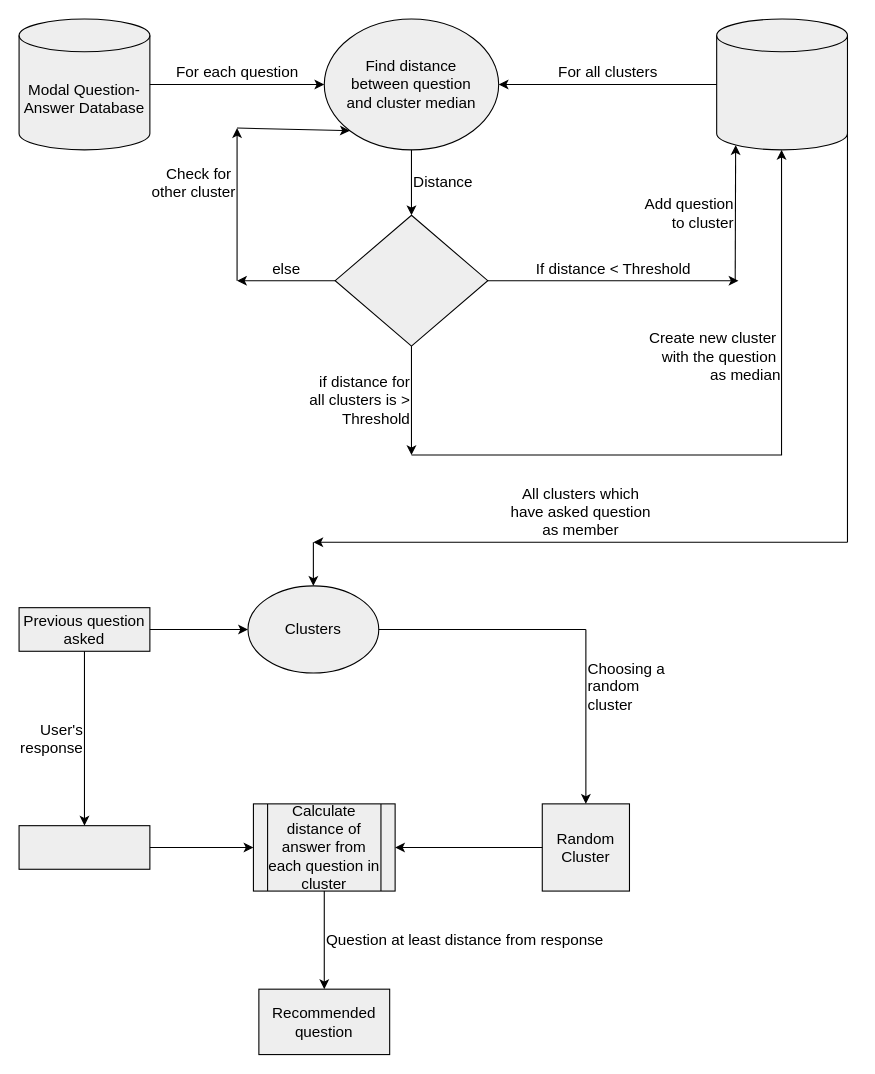
Image size: 875x1074. Some labels were removed from this diagram. Each missing label, with the centre of its shape:
"Answer" belongs at (x=84, y=847).
"Cluster's Database" belongs at (x=781, y=84).
"Comparison of distance with threshold value" belongs at (x=411, y=280).
